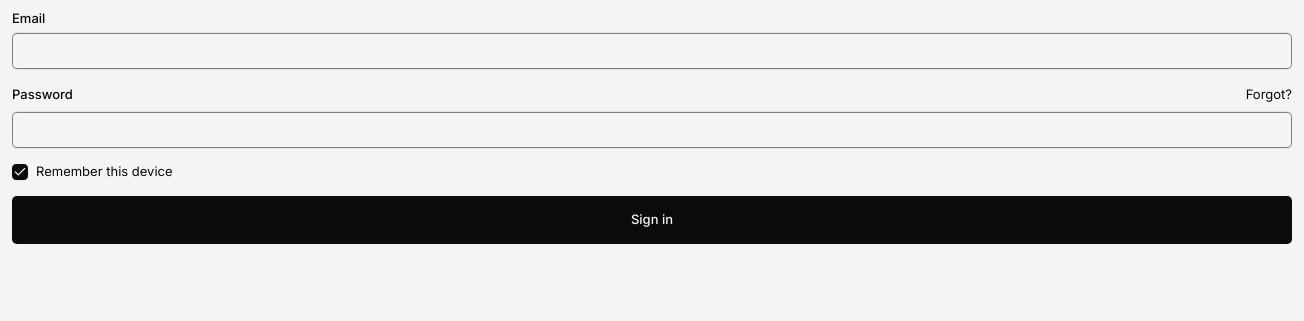
LoginForm when rate-limited › rounds a short wait up to one minute
The image size is (1304, 321).
Step 1. Type "a@b.co" into the field labelled "Email" → (652, 51), box [12,33,1292,69]
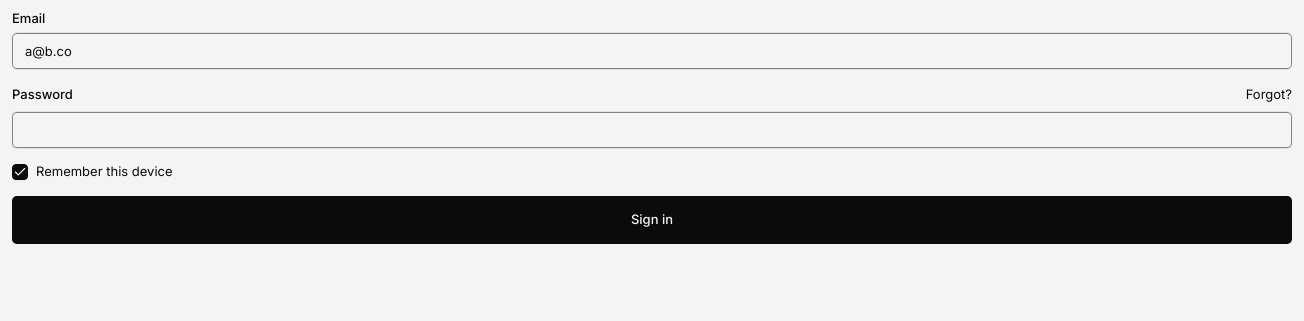
Step 2. Type "correct horse battery" into the password field labelled "Password" → (652, 130), box [12,112,1292,148]
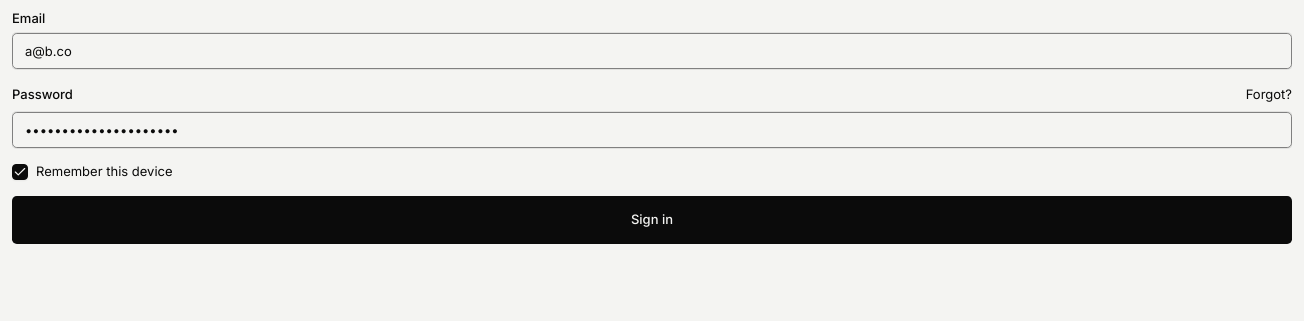
Step 3. Click the button "Sign in" → (652, 220), box [12,196,1292,244]
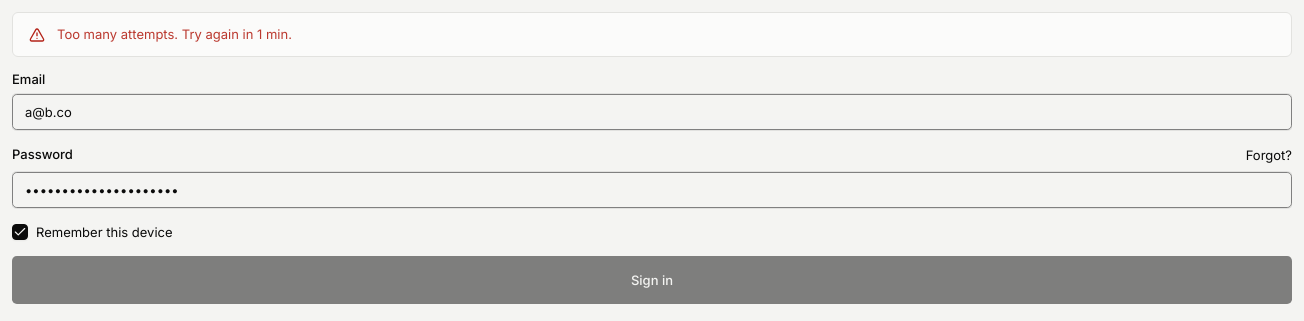
Check: the text "Too many attempts. Try again in 1 min." is shown, box [57,26,292,42]
